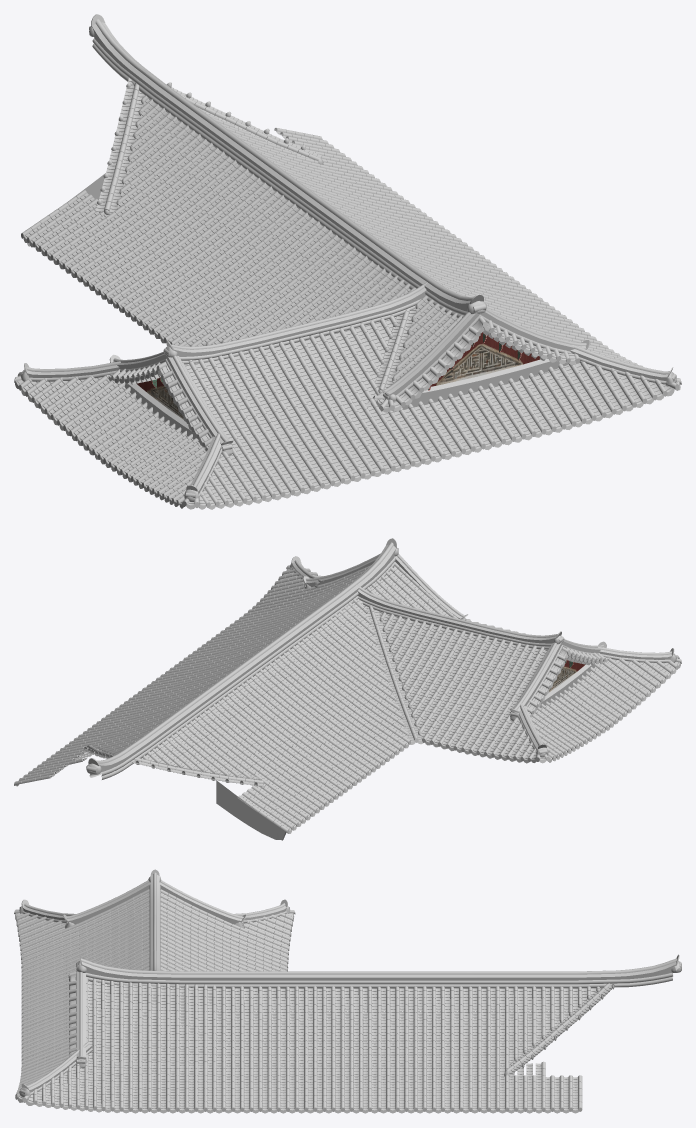
The model's file is SM_Roof05D.fbx.
3 renders of one model, top to bottom at view 1: azimuth 30°, elevation 25°; view 2: azimuth 150°, elevation 25°; view 3: azimuth 270°, elevation 25°, orthographic. The views are drawn at different scales.
Parts seen in each view (by area): view 1: SM_Roof05D; view 2: SM_Roof05D; view 3: SM_Roof05D.
Part boxes in pixels (x1,y1,x2,y2): SM_Roof05D: (14, 14, 681, 509); SM_Roof05D: (14, 538, 681, 840); SM_Roof05D: (14, 869, 681, 1113).
Bounding box in the file's own units: 1525 × 2241 × 384.
